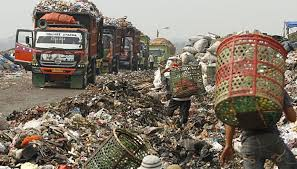garbage: (12, 111, 164, 169), (97, 74, 160, 169), (162, 127, 219, 169)
